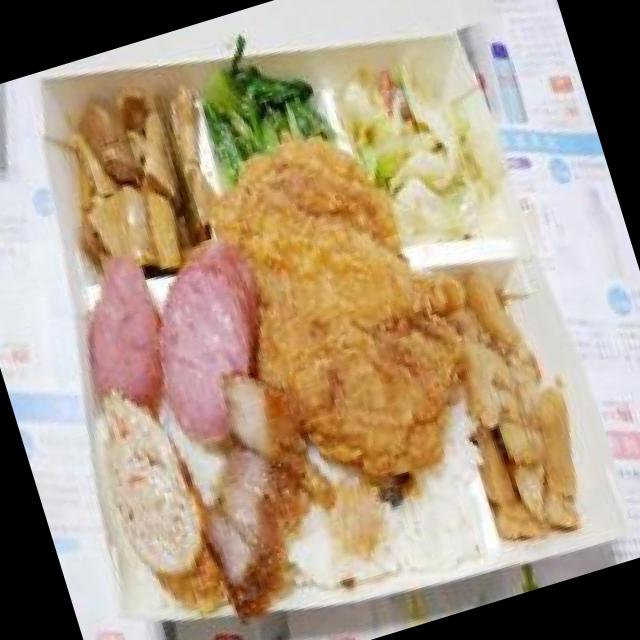chinese_cabbage: (340, 46, 499, 246)
chinese_sausage: (63, 236, 274, 421)
fried_chicken: (196, 101, 504, 523)
